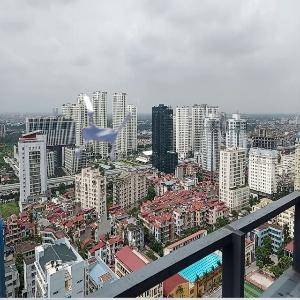drone: (52, 77, 150, 175)
